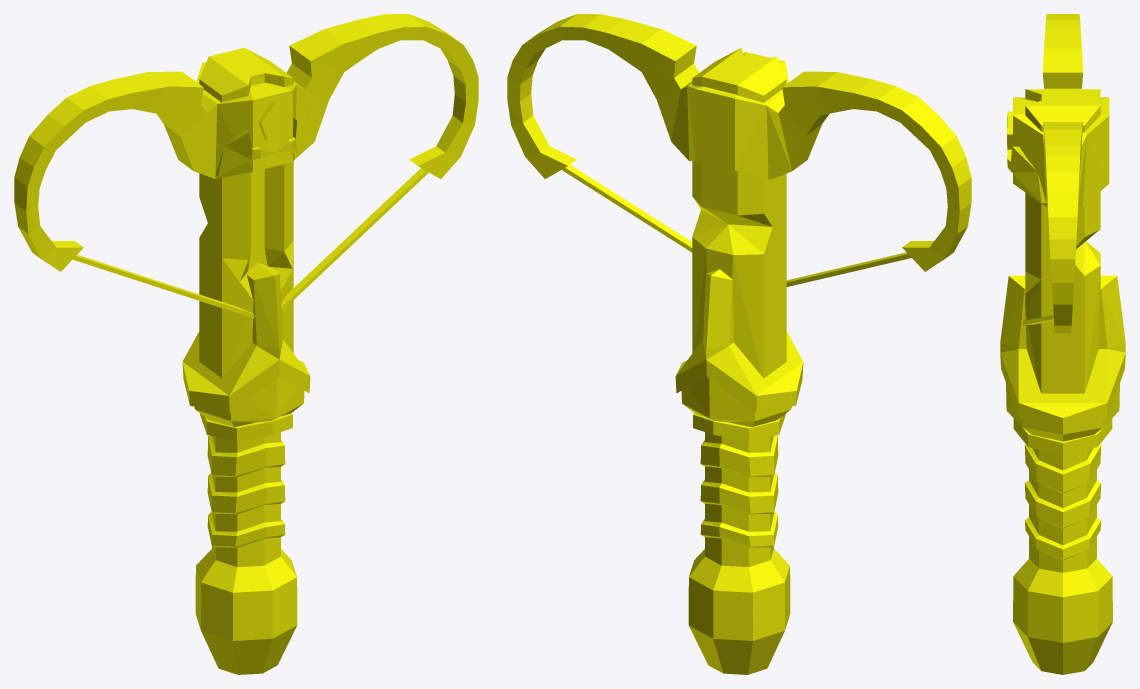
File: _crossbow_10.glb
3 renders of one model, left to right at view 1: azimuth 30°, elevation 25°; view 2: azimuth 150°, elevation 25°; view 3: azimuth 270°, elevation 25°, orthographic. The views are drawn at different scales.
Parts seen in each view (by area): view 1: crossbow_10; view 2: crossbow_10; view 3: crossbow_10.
Boxes of the visible parts, left/top/right/bottom form: crossbow_10: left=14, top=14, right=478, bottom=674; crossbow_10: left=507, top=14, right=971, bottom=674; crossbow_10: left=1000, top=14, right=1125, bottom=674.
Bounding box in the file's own units: 0.5368 × 0.687 × 0.1361.
1 material, 1 textured.
